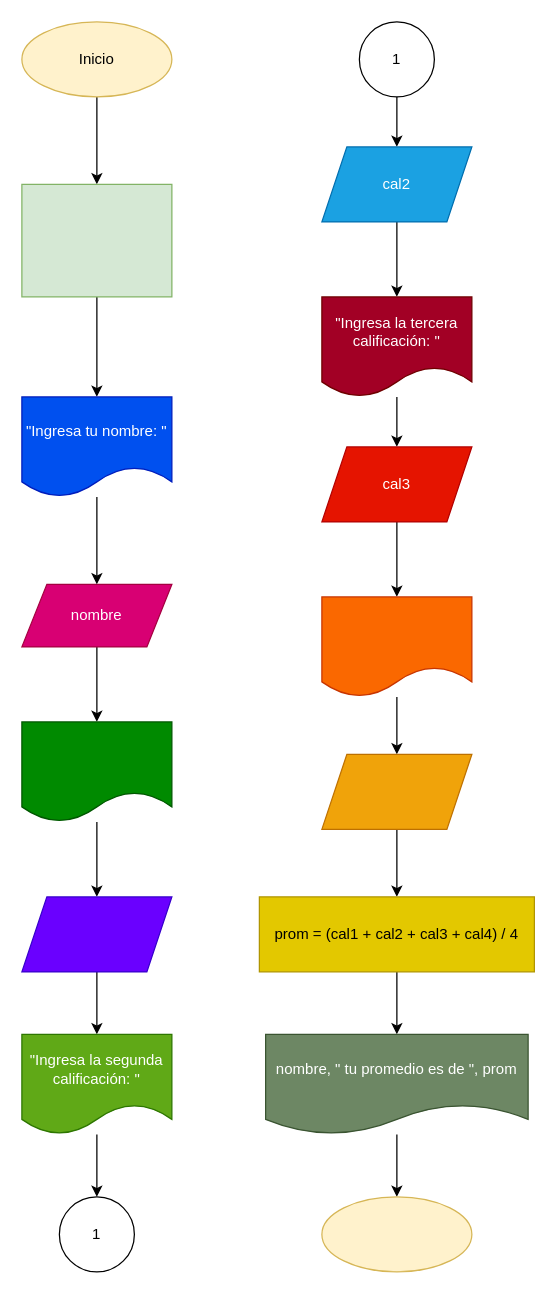
This 556x1294 diagram has some shape labels left out. The shapes that lost their labels are listed below. From the top down, each one's centre as x and y in pixels, then its label:
the point at 96,240: nombre = " " cal1 = 0 cal2 = 0 cal3 = 0 cal4 = 0 prom = 0
the point at 396,646: "Ingrese la cuarta calificación: "
the point at 96,771: "Ingresa la primera calificación: "
the point at 396,791: cal4
the point at 96,934: cal1
the point at 396,1234: Fin
